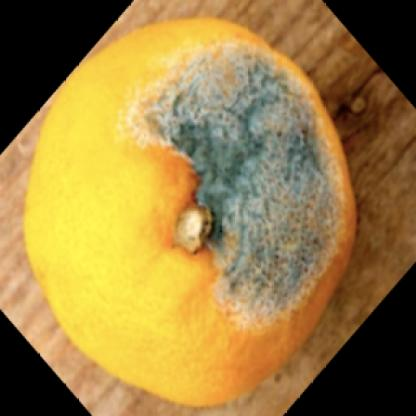rotten: (27, 19, 356, 409)
